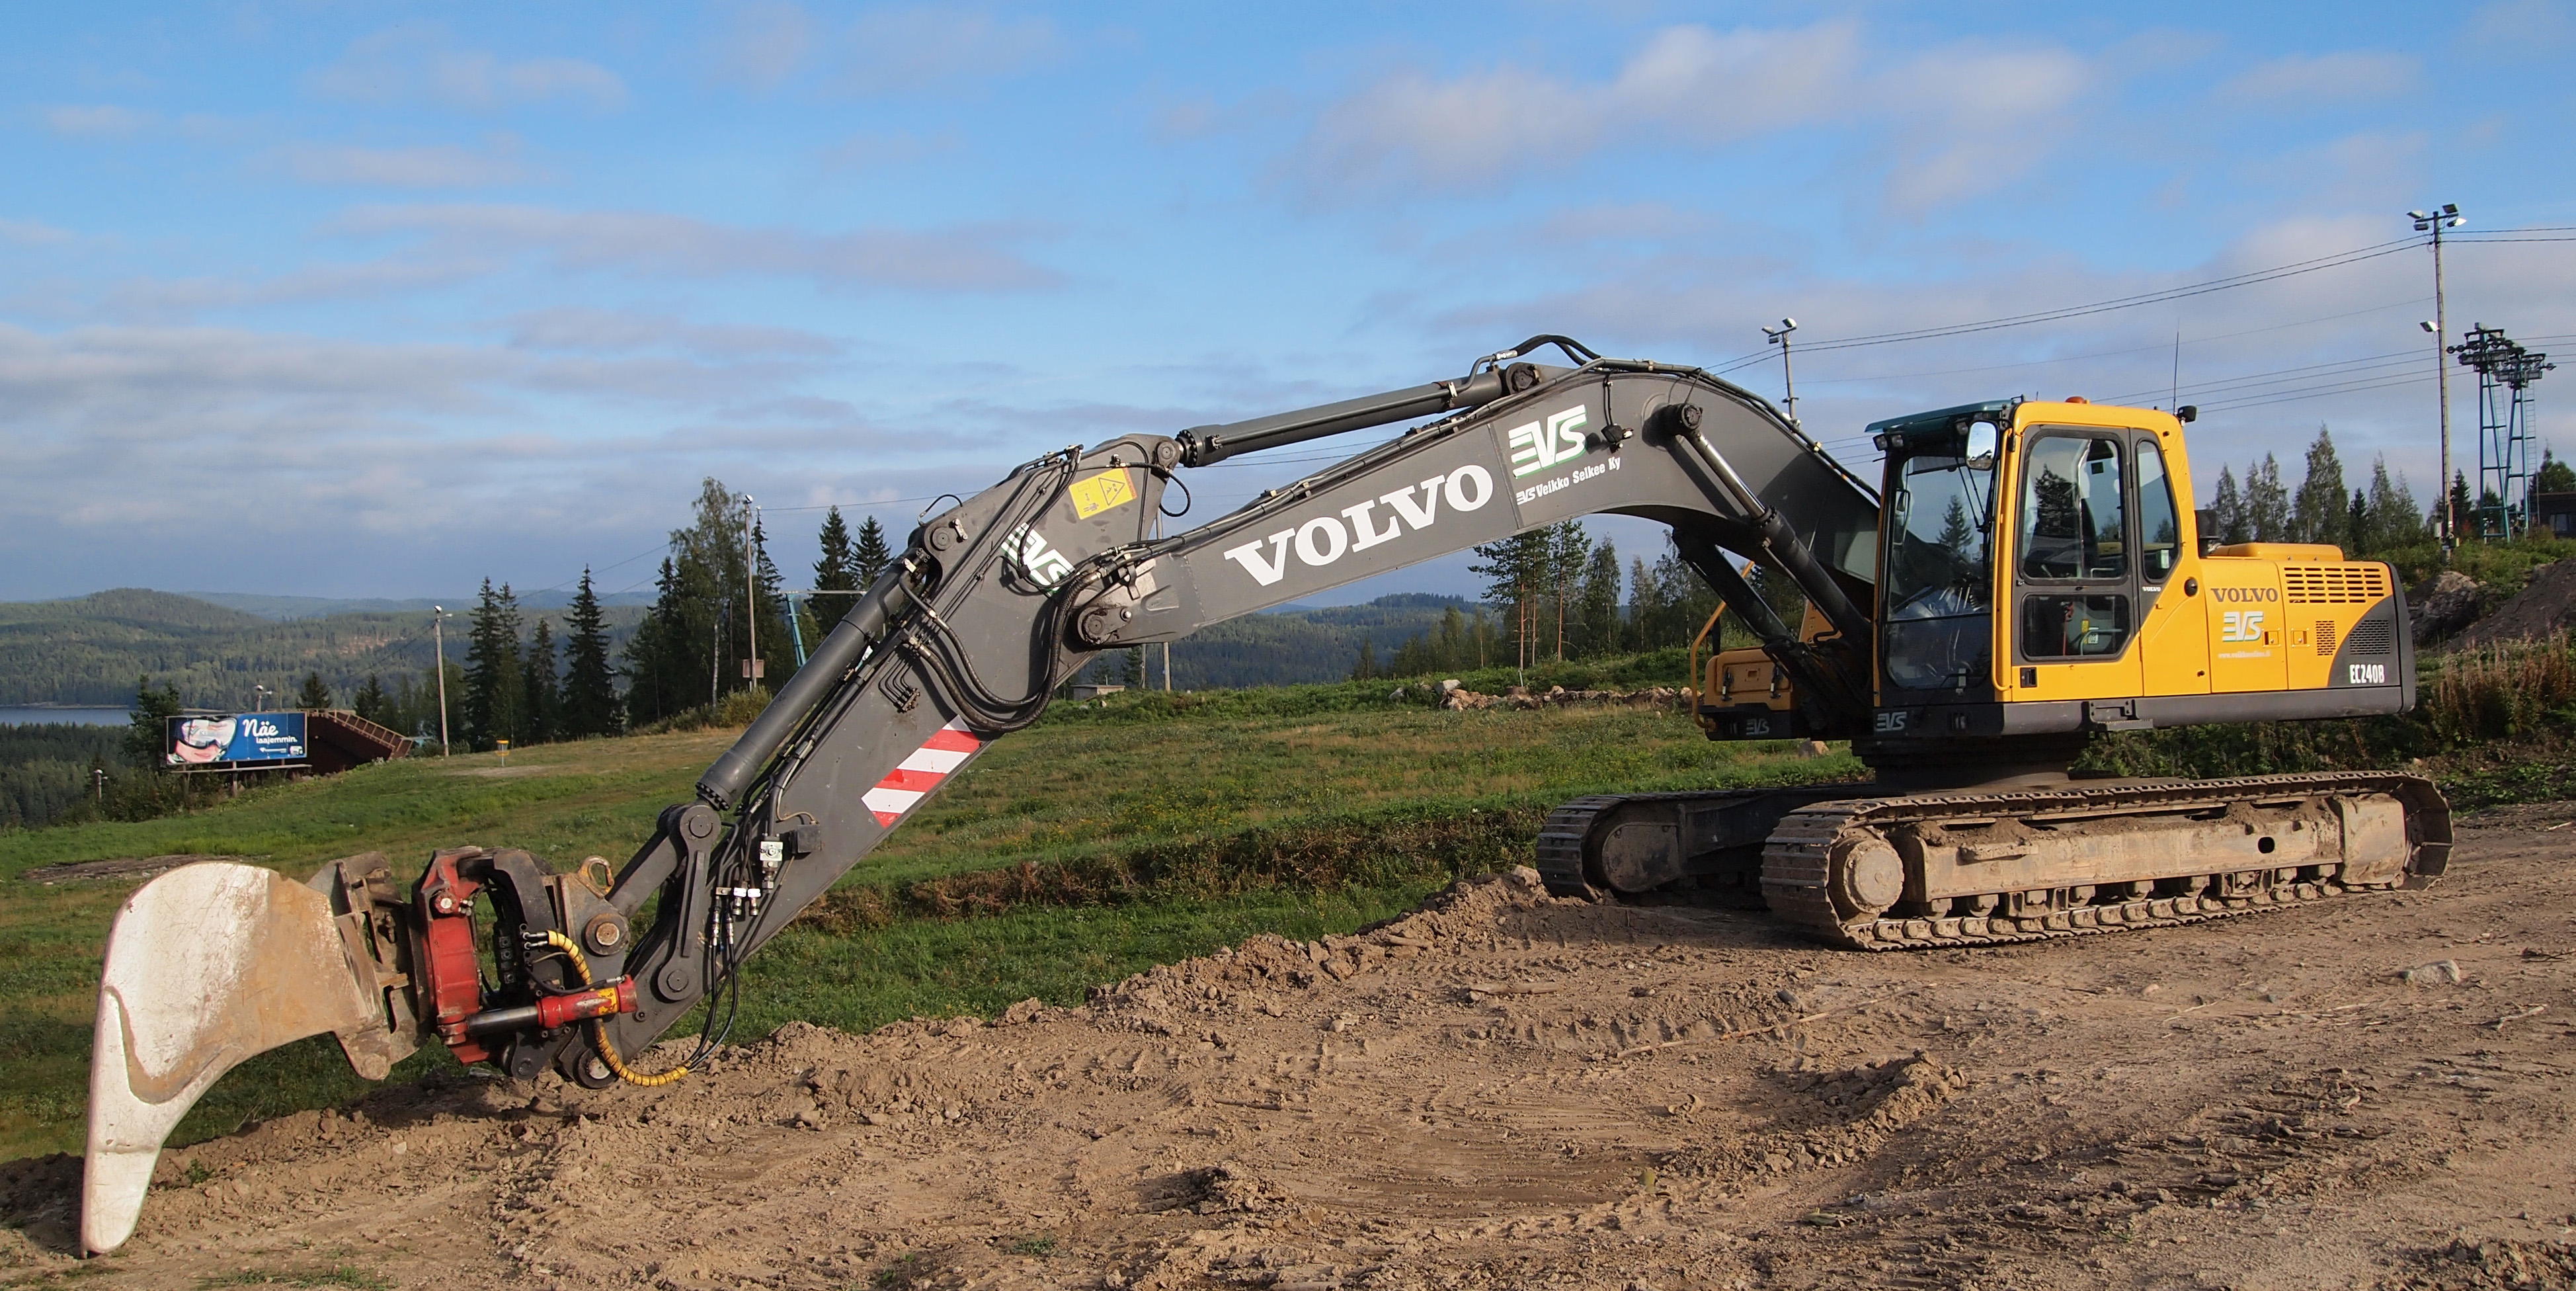excavator: (81, 344, 2513, 1281)
